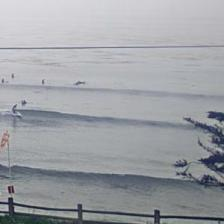surfer: (74, 81, 85, 85), (21, 99, 27, 106), (12, 105, 17, 112), (11, 73, 15, 79), (1, 78, 4, 84), (42, 79, 45, 85)
